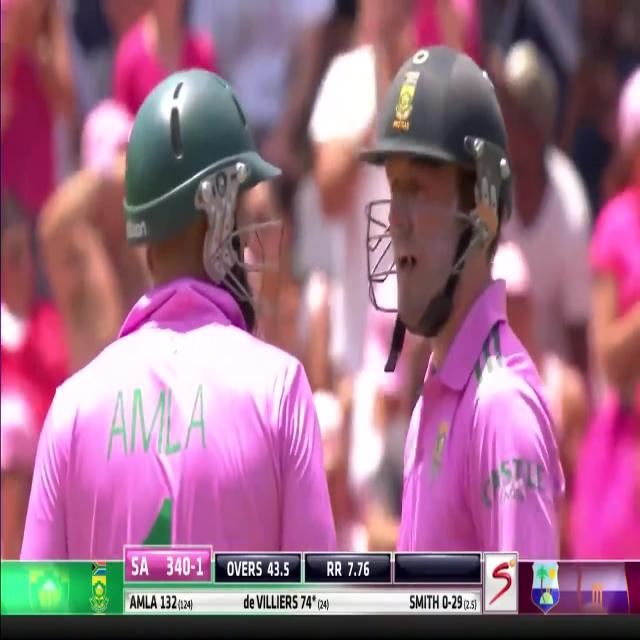Ball: (27, 53, 333, 557), (377, 49, 571, 554)
